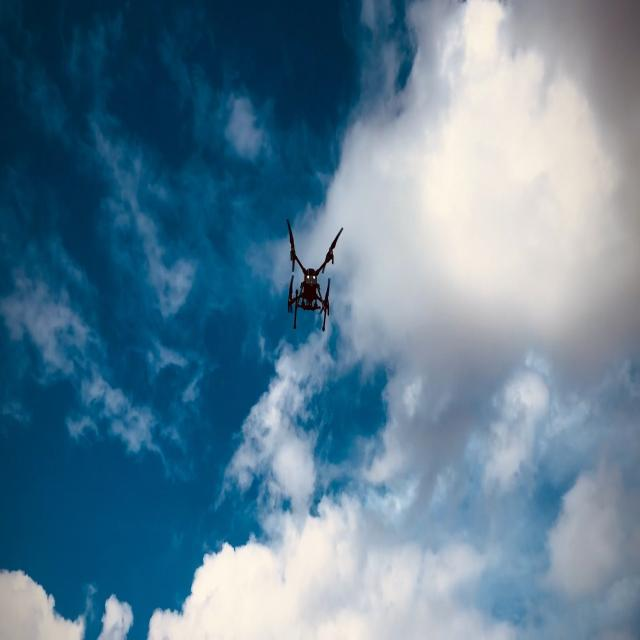drone: (285, 217, 344, 332)
